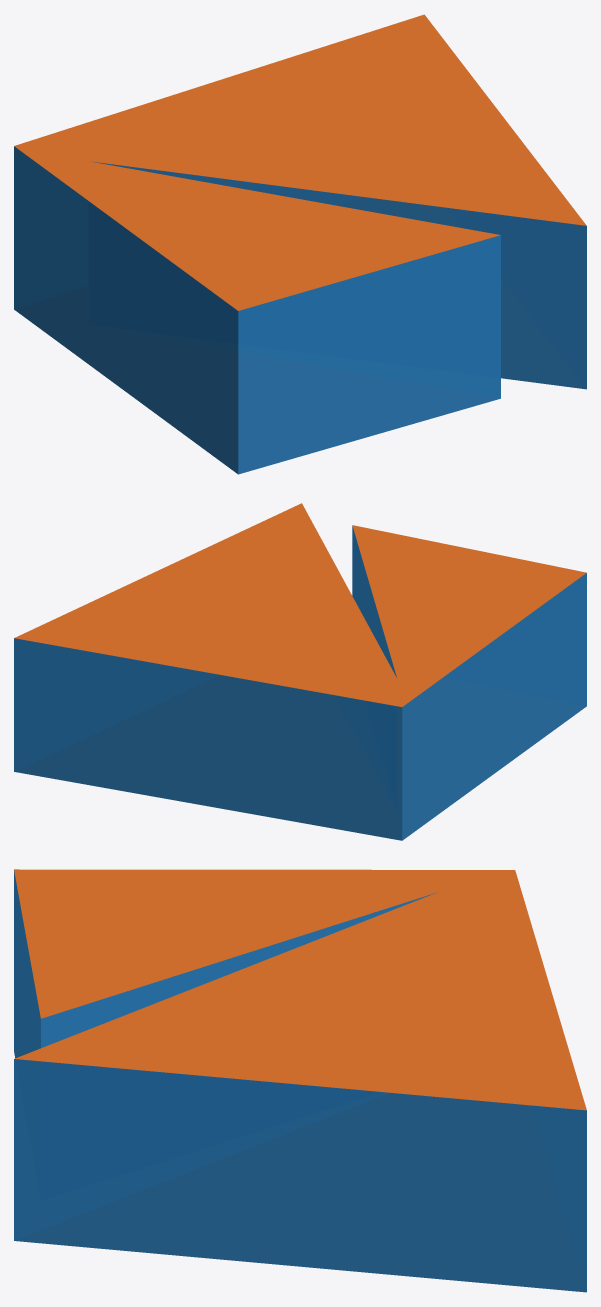
File: cyber_hub_gurugram.obj
3 views of the same model, one above another, from view 1: azimuth 30°, elevation 25°; view 2: azimuth 150°, elevation 25°; view 3: azimuth 270°, elevation 25° (orthographic). The views are drawn at different scales.
Visible parts, largest first — view 1: bldg-cyber-hub-001; view 2: bldg-cyber-hub-001; view 3: bldg-cyber-hub-001.
Boxes of the visible parts, x1,y1,x2,y2 form: bldg-cyber-hub-001: [14, 14, 586, 474]; bldg-cyber-hub-001: [14, 503, 586, 840]; bldg-cyber-hub-001: [14, 869, 586, 1292].
Bounding box in the file's own units: 199 × 70 × 200.
